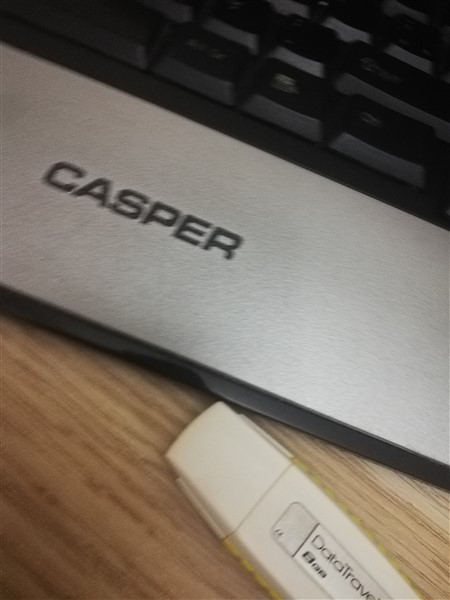flash disk: (153, 397, 450, 599)
klavye: (1, 1, 449, 494)
